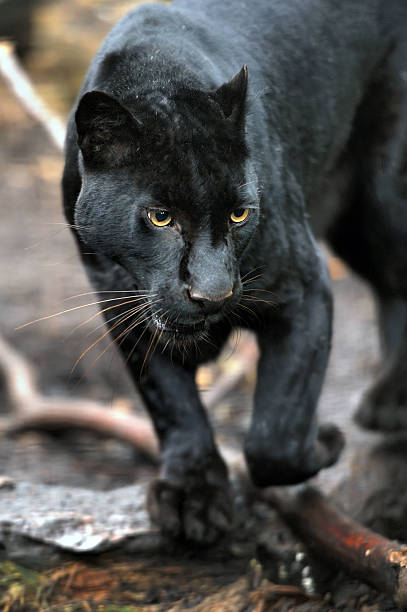panther: (31, 61, 286, 384)
